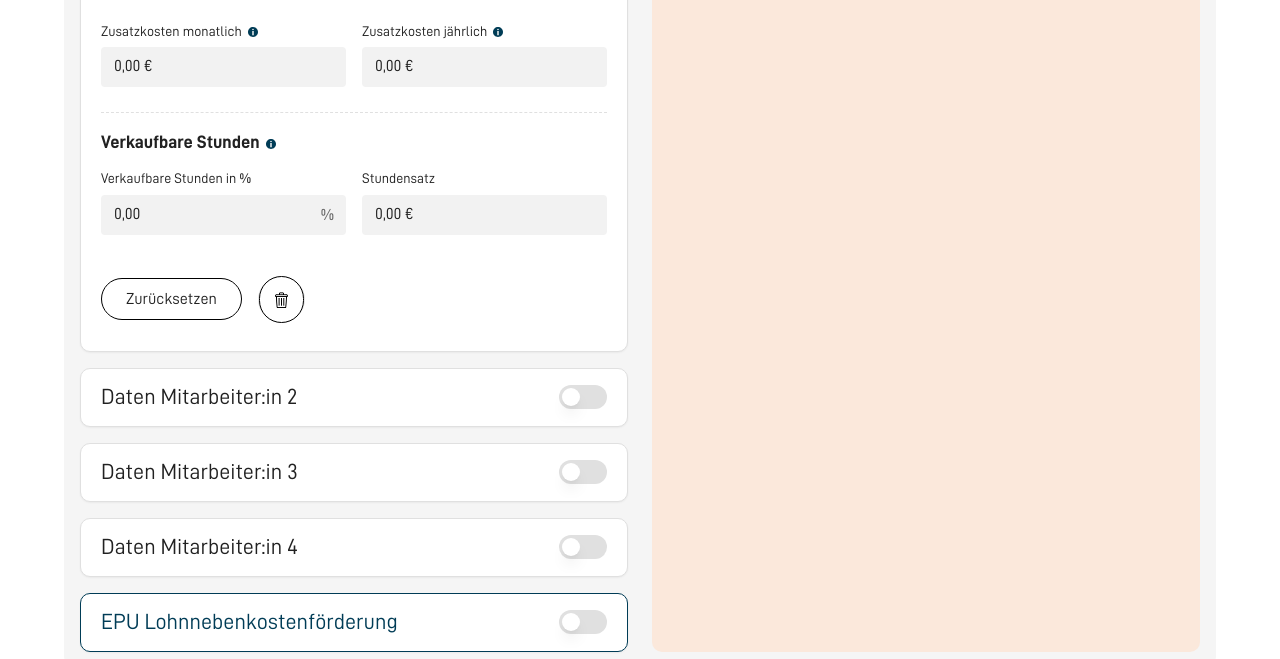
Calculator page › clears employee form values to zero
(page scrolled)
Click the button named "Löschen": (281, 299) [258,276,305,322]
(page scrolled)
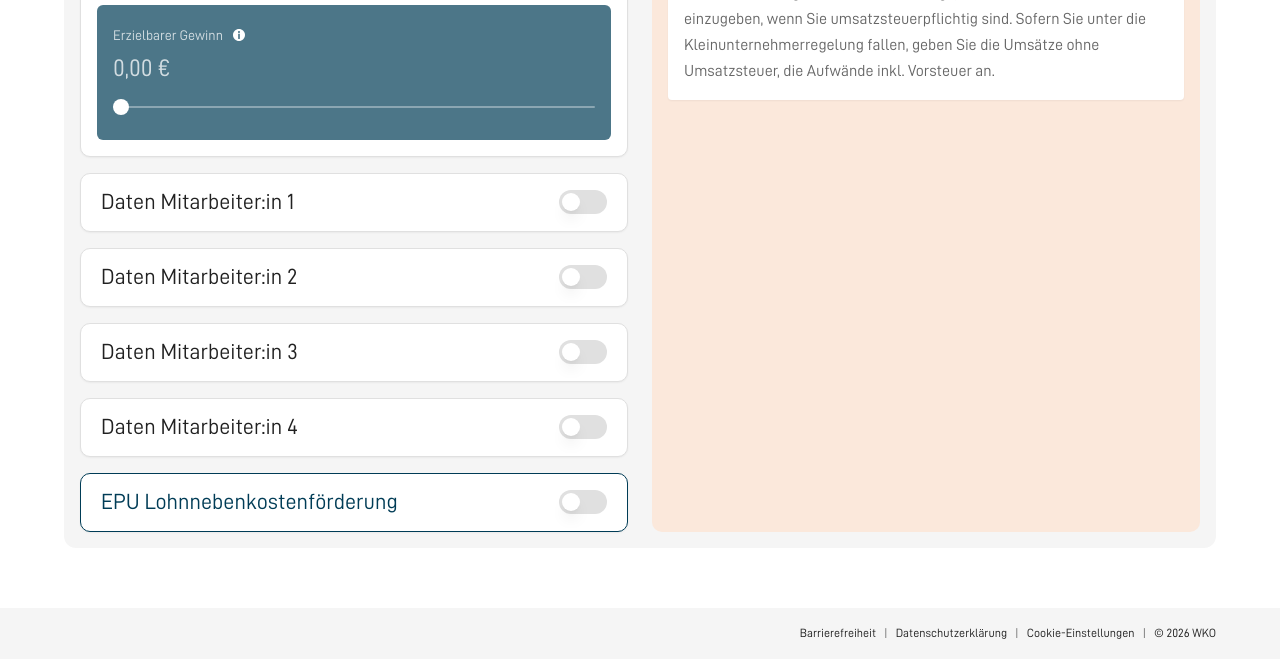
Click the button "Daten Mitarbeiter:in 1": (181, 202) [101,186,547,218]
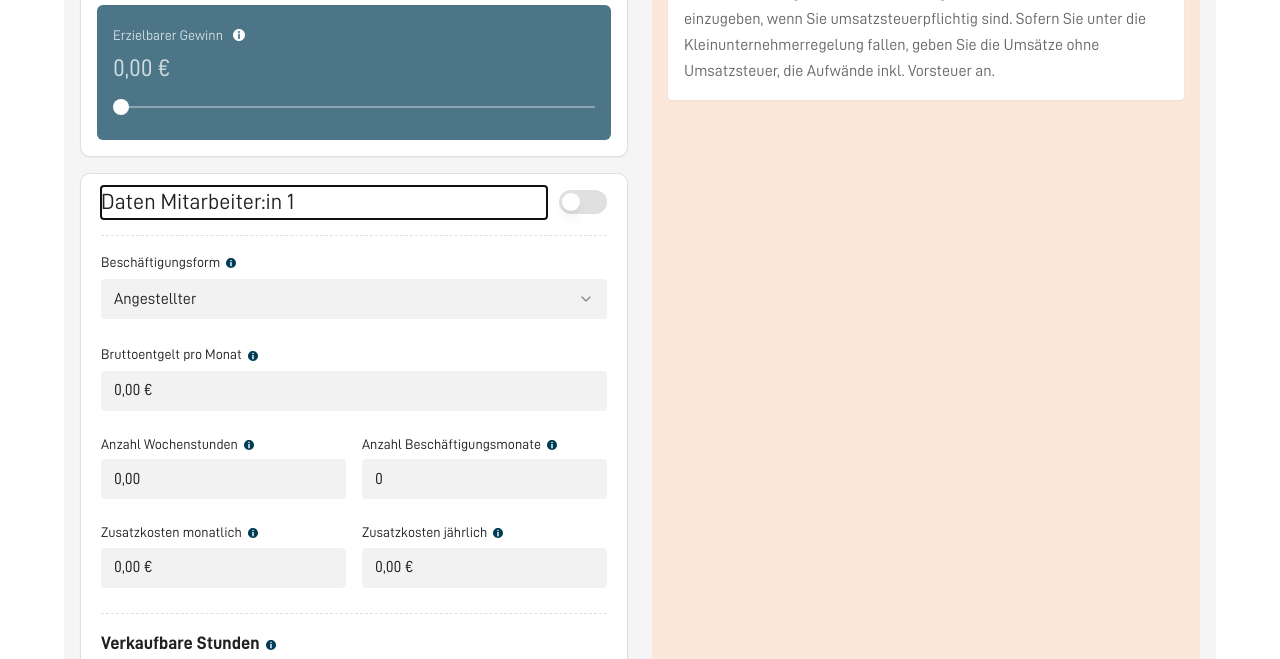
Now the field named "Daten Mitarbeiter 1: Bruttoentgelt pro Monat" holds "0,00 €", box [101,370,607,410]
Now the field named "Daten Mitarbeiter 1: Anzahl Wochenstunden" holds "0,00", box [101,459,346,499]
Now the field named "Daten Mitarbeiter 1: Anzahl Beschäftigungsmonate" holds "0", box [362,459,607,499]
